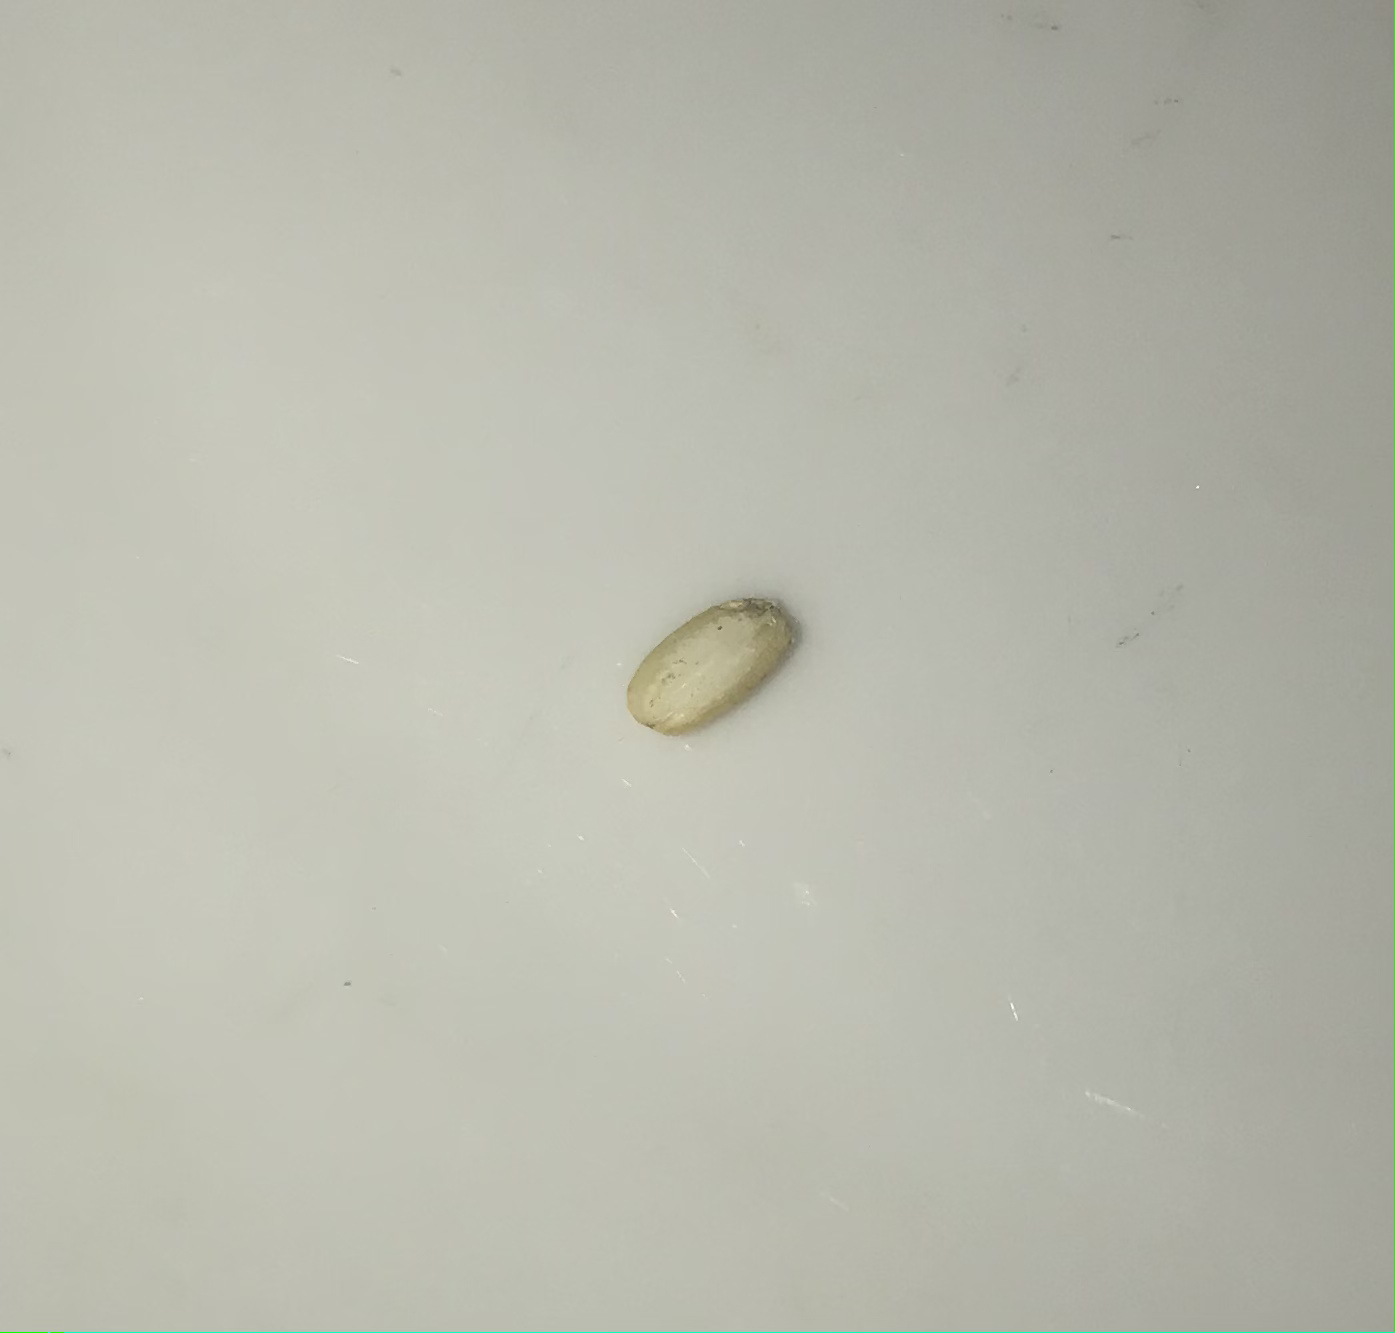Gao Lut Bac: (622, 583, 815, 730)
